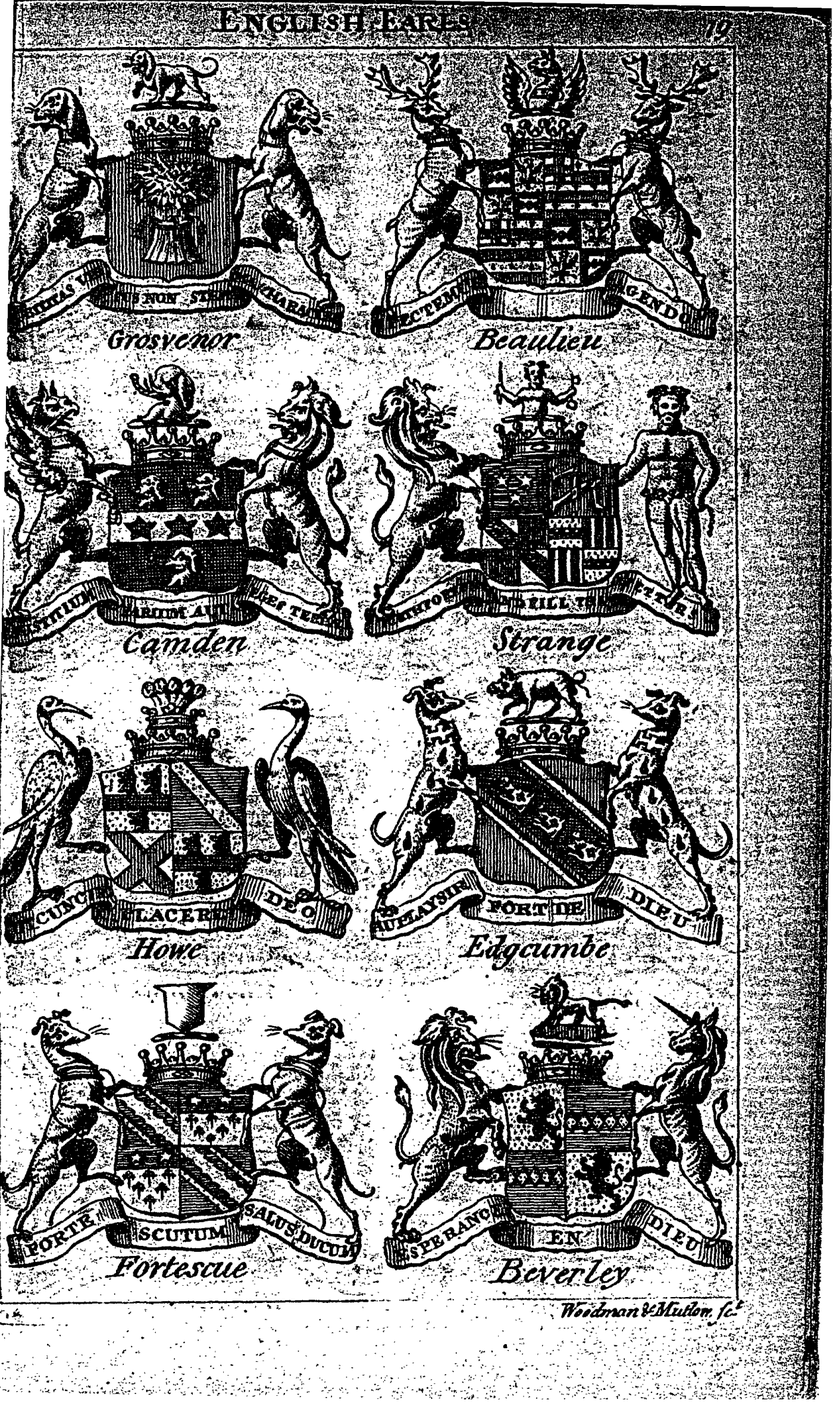coat_of_arms: (10, 985, 387, 1292), (352, 55, 721, 361), (367, 663, 729, 973), (379, 983, 728, 1295), (365, 361, 727, 661), (7, 677, 359, 984), (10, 365, 359, 668), (14, 57, 356, 361)
